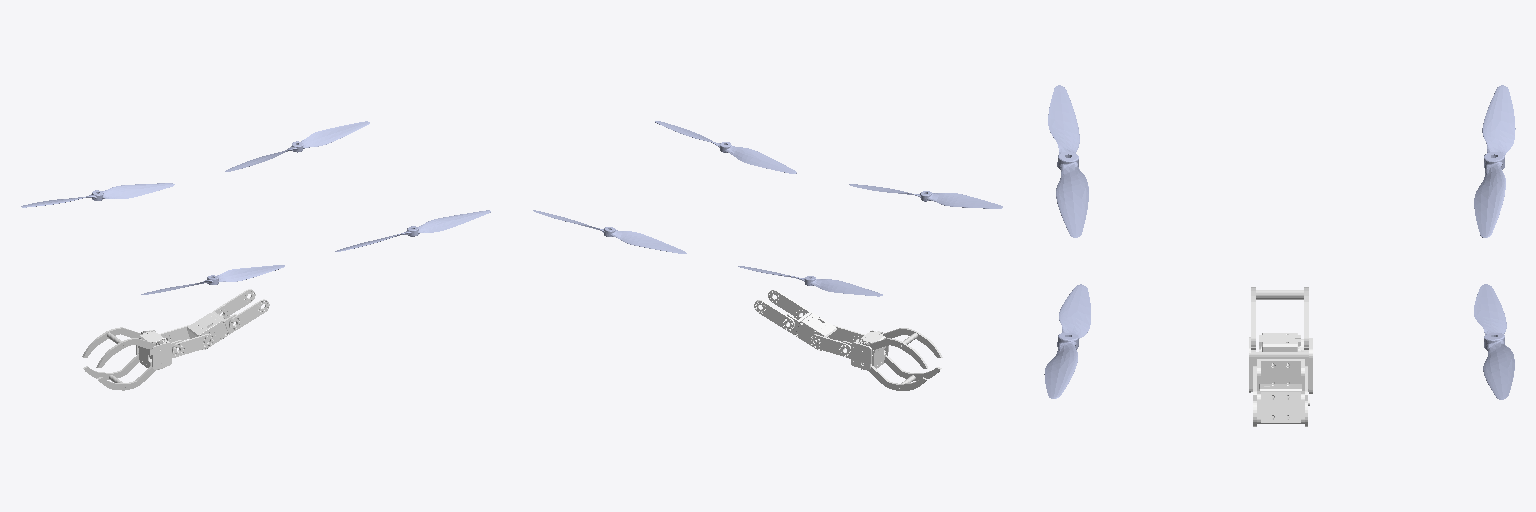
URDF robot description (s500_uav_with_propeller):
<?xml version="1.0" encoding="utf-8"?>
<!-- This URDF was automatically created by SolidWorks to URDF Exporter! Originally created by [author] ([email redacted]) 
     Commit Version: 1.6.0-4-g7f85cfe  Build Version: 1.6.7995.38578
     For more information, please see http://wiki.ros.org/sw_urdf_exporter -->
<robot
  name="s500_uav_with_propeller">
  <link
    name="base_link">
    <inertial>
      <origin
        xyz="-3.9741E-05 -2.1279E-05 -0.02127"
        rpy="0 0 0" />
      <mass
        value="0.57121" />
      <inertia
        ixx="0.00042201"
        ixy="-2.0445E-06"
        ixz="-1.0225E-06"
        iyy="0.00073654"
        iyz="6.0809E-08"
        izz="0.0010532" />
    </inertial>
    <visual>
      <origin
        xyz="0 0 0"
        rpy="0 0 0" />
      <geometry>
        <mesh
          filename="package://s500_uav_with_propeller/meshes/base_link.STL" />
      </geometry>
      <material
        name="">
        <color
          rgba="0.75294 0.75294 0.75294 1" />
      </material>
    </visual>
    <collision>
      <origin
        xyz="0 0 0"
        rpy="0 0 0" />
      <geometry>
        <mesh
          filename="package://s500_uav_with_propeller/meshes/base_link.STL" />
      </geometry>
    </collision>
  </link>
  <link
    name="link_1">
    <inertial>
      <origin
        xyz="-5.7462E-12 -0.00019643 -0.076809"
        rpy="0 0 0" />
      <mass
        value="0.056776" />
      <inertia
        ixx="1.5689E-05"
        ixy="-1.0156E-16"
        ixz="-5.2427E-15"
        iyy="1.3617E-05"
        iyz="-1.6017E-09"
        izz="8.7857E-06" />
    </inertial>
    <visual>
      <origin
        xyz="0 0 0"
        rpy="0 0 0" />
      <geometry>
        <mesh
          filename="package://s500_uav_with_propeller/meshes/link_1.STL" />
      </geometry>
      <material
        name="">
        <color
          rgba="1 1 1 1" />
      </material>
    </visual>
    <collision>
      <origin
        xyz="0 0 0"
        rpy="0 0 0" />
      <geometry>
        <mesh
          filename="package://s500_uav_with_propeller/meshes/link_1.STL" />
      </geometry>
    </collision>
  </link>
  <joint
    name="joint_1"
    type="continuous">
    <origin
      xyz="0.0007 0 -0.07275"
      rpy="0 1.2222 0" />
    <parent
      link="base_link" />
    <child
      link="link_1" />
    <axis
      xyz="0 1 0" />
  </joint>
  <link
    name="link_2">
    <inertial>
      <origin
        xyz="0.000575394854711864 0.000246505418719023 -0.0722608850455854"
        rpy="0 0 0" />
      <mass
        value="0.0656630050112662" />
      <inertia
        ixx="1.30057574621575E-05"
        ixy="2.55528503526128E-07"
        ixz="4.40822710632907E-09"
        iyy="1.49846467170001E-05"
        iyz="-6.07773891098389E-07"
        izz="1.60537315409108E-05" />
    </inertial>
    <visual>
      <origin
        xyz="0 0 0"
        rpy="0 0 0" />
      <geometry>
        <mesh
          filename="package://s500_uav_with_propeller/meshes/link_2.STL" />
      </geometry>
      <material
        name="">
        <color
          rgba="1 1 1 1" />
      </material>
    </visual>
    <collision>
      <origin
        xyz="0 0 0"
        rpy="0 0 0" />
      <geometry>
        <mesh
          filename="package://s500_uav_with_propeller/meshes/link_2.STL" />
      </geometry>
    </collision>
  </link>
  <joint
    name="joint_2"
    type="continuous">
    <origin
      xyz="0 0 -0.0992499999999631"
      rpy="0 0.293604338073927 0" />
    <parent
      link="link_1" />
    <child
      link="link_2" />
    <axis
      xyz="0 1 0" />
  </joint>
  <link
    name="link_3">
    <inertial>
      <origin
        xyz="0.025274 0.000991 -0.041284"
        rpy="0 0 0" />
      <mass
        value="0.012158" />
      <inertia
        ixx="1.0667E-05"
        ixy="-2.5213E-09"
        ixz="3.6553E-06"
        iyy="1.2675E-05"
        iyz="4.2721E-09"
        izz="2.4775E-06" />
    </inertial>
    <visual>
      <origin
        xyz="0 0 0"
        rpy="0 0 0" />
      <geometry>
        <mesh
          filename="package://s500_uav_with_propeller/meshes/link_3.STL" />
      </geometry>
      <material
        name="">
        <color
          rgba="0.92157 0.92157 0.92157 1" />
      </material>
    </visual>
    <collision>
      <origin
        xyz="0 0 0"
        rpy="0 0 0" />
      <geometry>
        <mesh
          filename="package://s500_uav_with_propeller/meshes/link_3.STL" />
      </geometry>
    </collision>
  </link>
  <joint
    name="joint_3"
    type="continuous">
    <origin
      xyz="-0.0110000000001107 0 -0.0822500000000793"
      rpy="0 0.234319548568971 3.14159265358978" />
    <parent
      link="link_2" />
    <child
      link="link_3" />
    <axis
      xyz="0 1 0" />
  </joint>
  <link
    name="link_4">
    <inertial>
      <origin
        xyz="0.024422 -0.0009913 -0.039818"
        rpy="0 0 0" />
      <mass
        value="0.012587" />
      <inertia
        ixx="1.1294E-05"
        ixy="2.4212E-09"
        ixz="4.0228E-06"
        iyy="1.352E-05"
        iyz="-4.1022E-09"
        izz="2.6966E-06" />
    </inertial>
    <visual>
      <origin
        xyz="0 0 0"
        rpy="0 0 0" />
      <geometry>
        <mesh
          filename="package://s500_uav_with_propeller/meshes/link_4.STL" />
      </geometry>
      <material
        name="">
        <color
          rgba="0.92157 0.92157 0.92157 1" />
      </material>
    </visual>
    <collision>
      <origin
        xyz="0 0 0"
        rpy="0 0 0" />
      <geometry>
        <mesh
          filename="package://s500_uav_with_propeller/meshes/link_4.STL" />
      </geometry>
    </collision>
  </link>
  <joint
    name="joint_4"
    type="continuous">
    <origin
      xyz="0.0109999999998656 0 -0.0822500000001005"
      rpy="0 0.262371590022443 0" />
    <parent
      link="link_2" />
    <child
      link="link_4" />
    <axis
      xyz="0 1 0" />
  </joint>
  <link
    name="rotor_1">
    <inertial>
      <origin
        xyz="9.324E-09 -0.020263 -1.4817E-05"
        rpy="0 0 0" />
      <mass
        value="0.010198" />
      <inertia
        ixx="3.3719E-05"
        ixy="1.1138E-12"
        ixz="-4.3242E-07"
        iyy="3.3919E-05"
        iyz="-3.8084E-11"
        izz="2.8343E-07" />
    </inertial>
    <visual>
      <origin
        xyz="0 0 0"
        rpy="0 0 0" />
      <geometry>
        <mesh
          filename="package://s500_uav_with_propeller/meshes/rotor_1.STL" />
      </geometry>
      <material
        name="">
        <color
          rgba="0.79216 0.81961 0.93333 1" />
      </material>
    </visual>
    <collision>
      <origin
        xyz="0 0 0"
        rpy="0 0 0" />
      <geometry>
        <mesh
          filename="package://s500_uav_with_propeller/meshes/rotor_1.STL" />
      </geometry>
    </collision>
  </link>
  <joint
    name="rotor_joint_1"
    type="continuous">
    <origin
      xyz="-0.17083 -0.17083 0.048368"
      rpy="-1.5059 0.058341 1.6252" />
    <parent
      link="base_link" />
    <child
      link="rotor_1" />
    <axis
      xyz="0 1 0" />
  </joint>
  <link
    name="rotor_2">
    <inertial>
      <origin
        xyz="1.0388E-07 0.0091876 -1.3792E-05"
        rpy="0 0 0" />
      <mass
        value="0.010198" />
      <inertia
        ixx="3.3719E-05"
        ixy="-1.0939E-12"
        ixz="-4.3247E-07"
        iyy="3.3919E-05"
        iyz="-6.8224E-11"
        izz="2.8343E-07" />
    </inertial>
    <visual>
      <origin
        xyz="0 0 0"
        rpy="0 0 0" />
      <geometry>
        <mesh
          filename="package://s500_uav_with_propeller/meshes/rotor_2.STL" />
      </geometry>
      <material
        name="">
        <color
          rgba="0.79216 0.81961 0.93333 1" />
      </material>
    </visual>
    <collision>
      <origin
        xyz="0 0 0"
        rpy="0 0 0" />
      <geometry>
        <mesh
          filename="package://s500_uav_with_propeller/meshes/rotor_2.STL" />
      </geometry>
    </collision>
  </link>
  <joint
    name="rotor_joint_2"
    type="continuous">
    <origin
      xyz="0.17009 -0.17009 0.060457"
      rpy="1.5037 0.055795 1.4778" />
    <parent
      link="base_link" />
    <child
      link="rotor_2" />
    <axis
      xyz="0 1 0" />
  </joint>
  <link
    name="rotor_3">
    <inertial>
      <origin
        xyz="1.0251E-07 -0.0074274 -1.368E-05"
        rpy="0 0 0" />
      <mass
        value="0.010198" />
      <inertia
        ixx="3.372E-05"
        ixy="-8.2454E-13"
        ixz="-4.3251E-07"
        iyy="3.3919E-05"
        iyz="-7.0007E-11"
        izz="2.8344E-07" />
    </inertial>
    <visual>
      <origin
        xyz="0 0 0"
        rpy="0 0 0" />
      <geometry>
        <mesh
          filename="package://s500_uav_with_propeller/meshes/rotor_3.STL" />
      </geometry>
      <material
        name="">
        <color
          rgba="0.79216 0.81961 0.93333 1" />
      </material>
    </visual>
    <collision>
      <origin
        xyz="0 0 0"
        rpy="0 0 0" />
      <geometry>
        <mesh
          filename="package://s500_uav_with_propeller/meshes/rotor_3.STL" />
      </geometry>
    </collision>
  </link>
  <joint
    name="rotor_joint_3"
    type="continuous">
    <origin
      xyz="0.17004 0.17004 0.061155"
      rpy="-1.6359 -0.058179 1.6277" />
    <parent
      link="base_link" />
    <child
      link="rotor_3" />
    <axis
      xyz="0 1 0" />
  </joint>
  <link
    name="rotor_4">
    <inertial>
      <origin
        xyz="9.5977E-09 0.028014 -1.4819E-05"
        rpy="0 0 0" />
      <mass
        value="0.010198" />
      <inertia
        ixx="3.3719E-05"
        ixy="1.1168E-12"
        ixz="-4.3242E-07"
        iyy="3.3919E-05"
        iyz="-3.8057E-11"
        izz="2.8343E-07" />
    </inertial>
    <visual>
      <origin
        xyz="0 0 0"
        rpy="0 0 0" />
      <geometry>
        <mesh
          filename="package://s500_uav_with_propeller/meshes/rotor_4.STL" />
      </geometry>
      <material
        name="">
        <color
          rgba="0.79216 0.81961 0.93333 1" />
      </material>
    </visual>
    <collision>
      <origin
        xyz="0 0 0"
        rpy="0 0 0" />
      <geometry>
        <mesh
          filename="package://s500_uav_with_propeller/meshes/rotor_4.STL" />
      </geometry>
    </collision>
  </link>
  <joint
    name="rotor_joint_4"
    type="continuous">
    <origin
      xyz="-0.17125 0.17125 0.041703"
      rpy="1.6359 -0.058101 1.5127" />
    <parent
      link="base_link" />
    <child
      link="rotor_4" />
    <axis
      xyz="0 1 0" />
  </joint>
</robot>

--- What the picture shows (computed from the rendered views, not written in the file) ---
3 views of the same robot in one strip: view 1: azimuth 30°, elevation 25°; view 2: azimuth 150°, elevation 25°; view 3: azimuth 270°, elevation 25° (orthographic).
Model s500_uav_with_propeller with 9 links and 8 joints (8 continuous), rooted at base_link, posed every joint at zero.
Visible links, largest first — view 1: link_1, link_2, rotor_3, rotor_4, rotor_2, link_3, link_4, rotor_1; view 2: link_1, link_2, rotor_2, rotor_1, rotor_3, link_3, link_4, rotor_4; view 3: rotor_1, rotor_4, link_2, rotor_3, rotor_2, link_1, link_3.
Boxes of the visible links, x1=… form: link_1: x1=187, y1=289, x2=269, y2=349; link_2: x1=136, y1=325, x2=214, y2=369; rotor_3: x1=225, y1=121, x2=369, y2=171; rotor_4: x1=21, y1=183, x2=174, y2=207; rotor_2: x1=335, y1=210, x2=490, y2=251; link_3: x1=82, y1=327, x2=163, y2=367; link_4: x1=83, y1=351, x2=164, y2=390; rotor_1: x1=141, y1=265, x2=284, y2=294; link_1: x1=754, y1=290, x2=836, y2=350; link_2: x1=809, y1=325, x2=888, y2=369; rotor_2: x1=655, y1=121, x2=796, y2=173; rotor_1: x1=849, y1=184, x2=1002, y2=208; rotor_3: x1=533, y1=210, x2=686, y2=253; link_3: x1=860, y1=328, x2=942, y2=368; link_4: x1=861, y1=350, x2=941, y2=390; rotor_4: x1=738, y1=266, x2=882, y2=296; rotor_1: x1=1048, y1=85, x2=1088, y2=237; rotor_4: x1=1474, y1=85, x2=1515, y2=237; link_2: x1=1249, y1=333, x2=1312, y2=394; rotor_3: x1=1474, y1=284, x2=1514, y2=399; rotor_2: x1=1044, y1=284, x2=1090, y2=398; link_1: x1=1253, y1=384, x2=1309, y2=426; link_3: x1=1251, y1=287, x2=1308, y2=351.
Size in the robot's own frame: 0.5923 by 0.3746 by 0.2316 metres.
8 mesh visuals loaded from 9 distinct referenced files (8 binary STL); not drawn: 1 (reference not matched to a file when rendering).